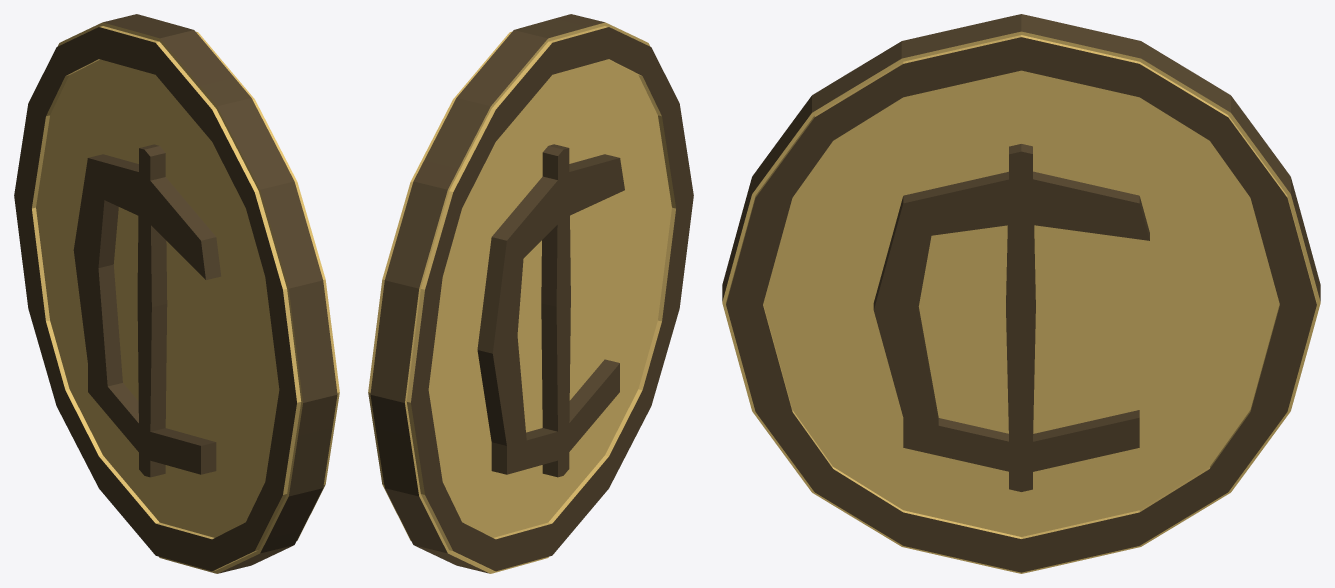
The model's file is coin.glb.
3 renders of one model, left to right at view 1: azimuth 30°, elevation 25°; view 2: azimuth 150°, elevation 25°; view 3: azimuth 270°, elevation 25°, orthographic. The views are drawn at different scales.
Visible parts, largest first — view 1: Coin; view 2: Coin; view 3: Coin.
Boxes of the visible parts, x1,y1,x2,y2 form: Coin: (14, 14, 339, 573); Coin: (368, 14, 693, 573); Coin: (722, 14, 1320, 573).
Bounding box in the file's own units: 0.2655 × 2.03 × 2.03.
